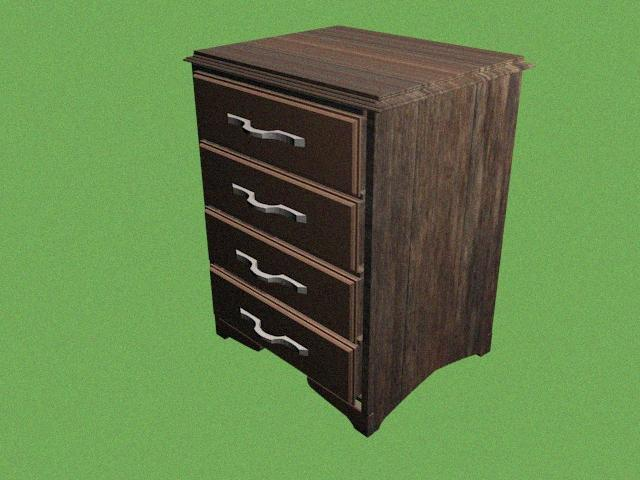cabinet_door: (201, 90, 365, 164), (204, 299, 366, 369), (203, 237, 364, 307), (203, 170, 363, 235)
handle: (221, 106, 309, 151), (237, 307, 310, 359), (230, 249, 310, 296), (228, 180, 309, 226)
